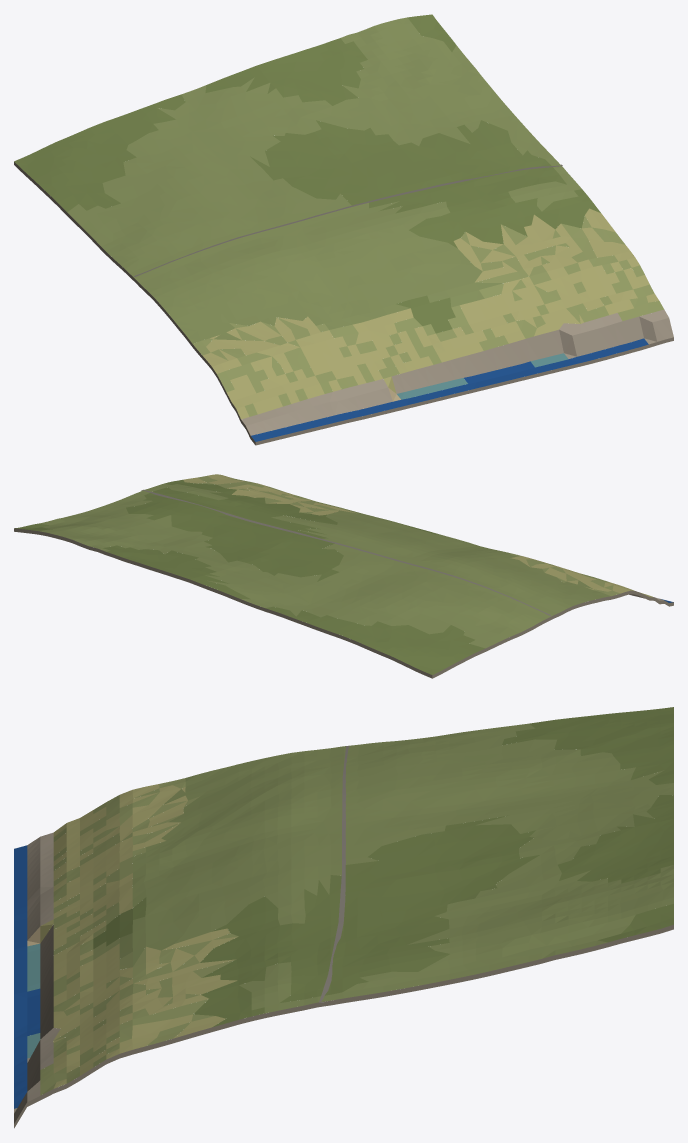
File: parca_+3_-9-uzak.glb
The picture shows the model from 3 angles, top to bottom: view 1: azimuth 30°, elevation 25°; view 2: azimuth 150°, elevation 25°; view 3: azimuth 270°, elevation 25°; orthographic projection. The views are drawn at different scales.
Visible parts, largest first — view 1: parca_+3_-9_arazi_uzak, parca_+3_-9_yollar_uzak; view 2: parca_+3_-9_arazi_uzak, parca_+3_-9_yollar_uzak; view 3: parca_+3_-9_arazi_uzak, parca_+3_-9_yollar_uzak.
Boxes of the visible parts, x1,y1,x2,y2 form: parca_+3_-9_arazi_uzak: (14,14,673,445); parca_+3_-9_yollar_uzak: (134,164,562,276); parca_+3_-9_arazi_uzak: (14,474,673,678); parca_+3_-9_yollar_uzak: (141,489,551,615); parca_+3_-9_arazi_uzak: (14,707,673,1128); parca_+3_-9_yollar_uzak: (319,746,349,1002).
Size of the model in its own units: 1003 by 356 by 1000.
